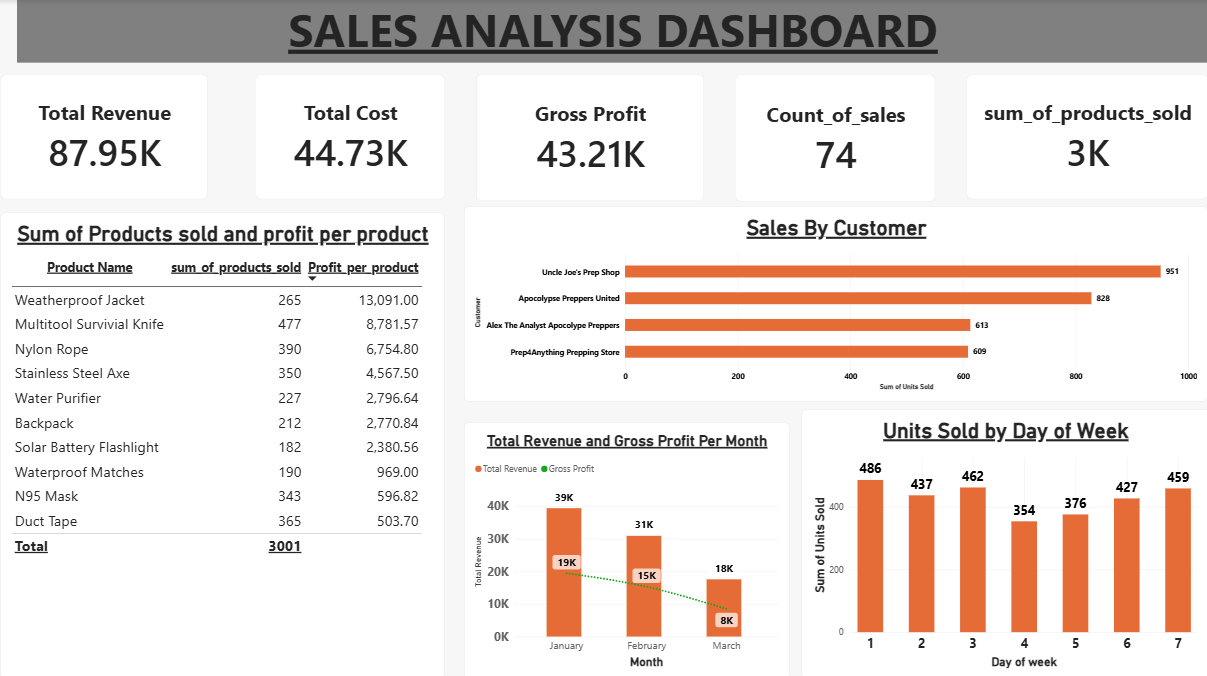

Layout of this report page (visuals, bound fields, positions):
{"tool":"powerbi","page":{"name":"Sales Analysis Dashboard","canvas":[1920,1080],"ordinal":1},"visuals":[{"type":"tableEx","title":"Sum of Products sold and profit per product","fields":{"Values":["Apocolypse Store.Product Name","Apocolypse Sales.sum_of_products_sold","Apocolypse Store.Profit_per_product"]},"box":[2.4,340.5,704.8,740.5],"z":1},{"type":"cardVisual","title":"Total Revenue","fields":{"Data":["Apocolypse Sales.Total Revenue"]},"box":[2.4,121.7,329.3,198],"z":3},{"type":"cardVisual","fields":{"Data":["Apocolypse Sales.Total Cost"]},"box":[407.4,121.7,300.6,198],"z":4},{"type":"cardVisual","fields":{"Data":["Apocolypse Sales.Gross Profit"]},"box":[757.5,121.7,362.7,200.4],"z":5},{"type":"cardVisual","fields":{"Data":["Apocolypse Sales.Count_of_sales"]},"box":[1169.7,121.7,317.3,202.8],"z":6},{"type":"cardVisual","fields":{"Data":["Apocolypse Sales.sum_of_products_sold"]},"box":[1535.9,121.7,384.1,198],"z":7},{"type":"clusteredBarChart","title":"Sales By Customer","fields":{"Category":["Apocolypse Sales.Customer","Apocolypse Sales.Order ID"],"Y":["Sum(Apocolypse Sales.Units Sold)"]},"box":[738.1,331.3,1181,309.5],"z":9},{"type":"textbox","box":[28.6,0,1892,102.6],"z":10},{"type":"clusteredColumnChart","title":"Units Sold by Day of Week","fields":{"Category":["Apocolypse Sales.Day of week"],"Y":["Sum(Apocolypse Sales.Units Sold)"]},"box":[1273.8,651.4,647.6,428.6],"z":11},{"type":"lineStackedColumnComboChart","title":"Total Revenue and Gross Profit Per Month","fields":{"Category":["Apocolypse Sales.Month"],"Y":["Apocolypse Sales.Total Revenue"],"Y2":["Apocolypse Sales.Gross Profit"]},"box":[738.1,673.8,516.7,407.1],"z":13}]}

Visuals, with their boxes in screenshot pixels (x1, y1, x2, y2), scaled from the page's 1920x1080 canvas onto the 1207x676 screenshot:
"Sum of Products sold and profit per product" tableEx: bbox(2, 213, 445, 675)
"Total Revenue" cardVisual: bbox(2, 76, 209, 200)
cardVisual - Apocolypse Sales.Total Cost: bbox(256, 76, 445, 200)
cardVisual - Apocolypse Sales.Gross Profit: bbox(476, 76, 704, 202)
cardVisual - Apocolypse Sales.Count_of_sales: bbox(735, 76, 935, 203)
cardVisual - Apocolypse Sales.sum_of_products_sold: bbox(966, 76, 1206, 200)
"Sales By Customer" clusteredBarChart: bbox(464, 207, 1206, 401)
textbox: bbox(18, 0, 1206, 64)
"Units Sold by Day of Week" clusteredColumnChart: bbox(801, 408, 1206, 675)
"Total Revenue and Gross Profit Per Month" lineStackedColumnComboChart: bbox(464, 422, 789, 675)
